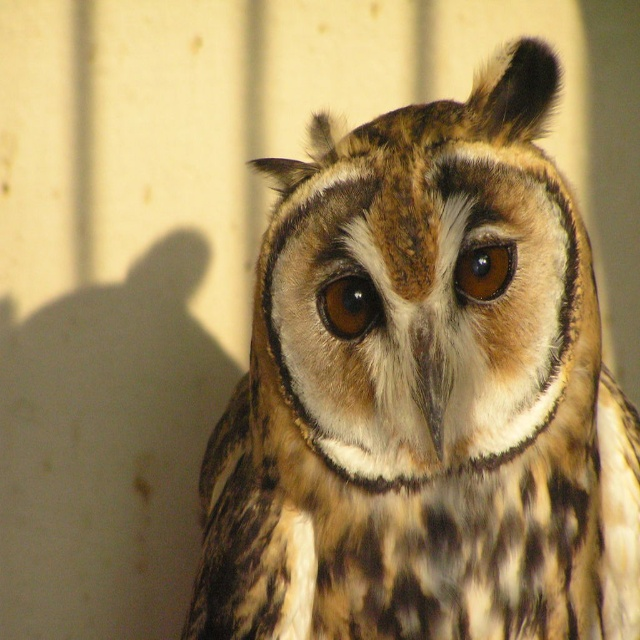Owl: (179, 33, 640, 639)
